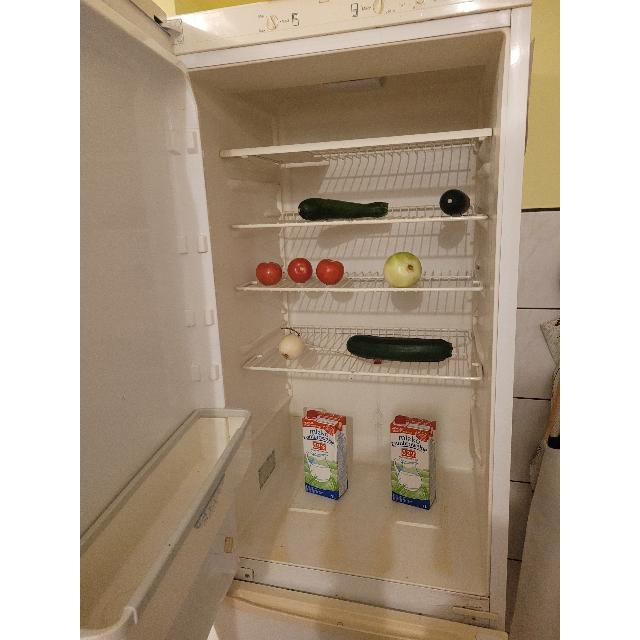milk: (390, 412, 438, 512), (302, 409, 348, 501)
onion: (383, 252, 422, 288), (278, 334, 304, 360)
tomato: (316, 257, 344, 285), (255, 262, 282, 286), (288, 258, 312, 284)
zucchini: (348, 334, 454, 362), (297, 198, 389, 220), (439, 189, 471, 217)
